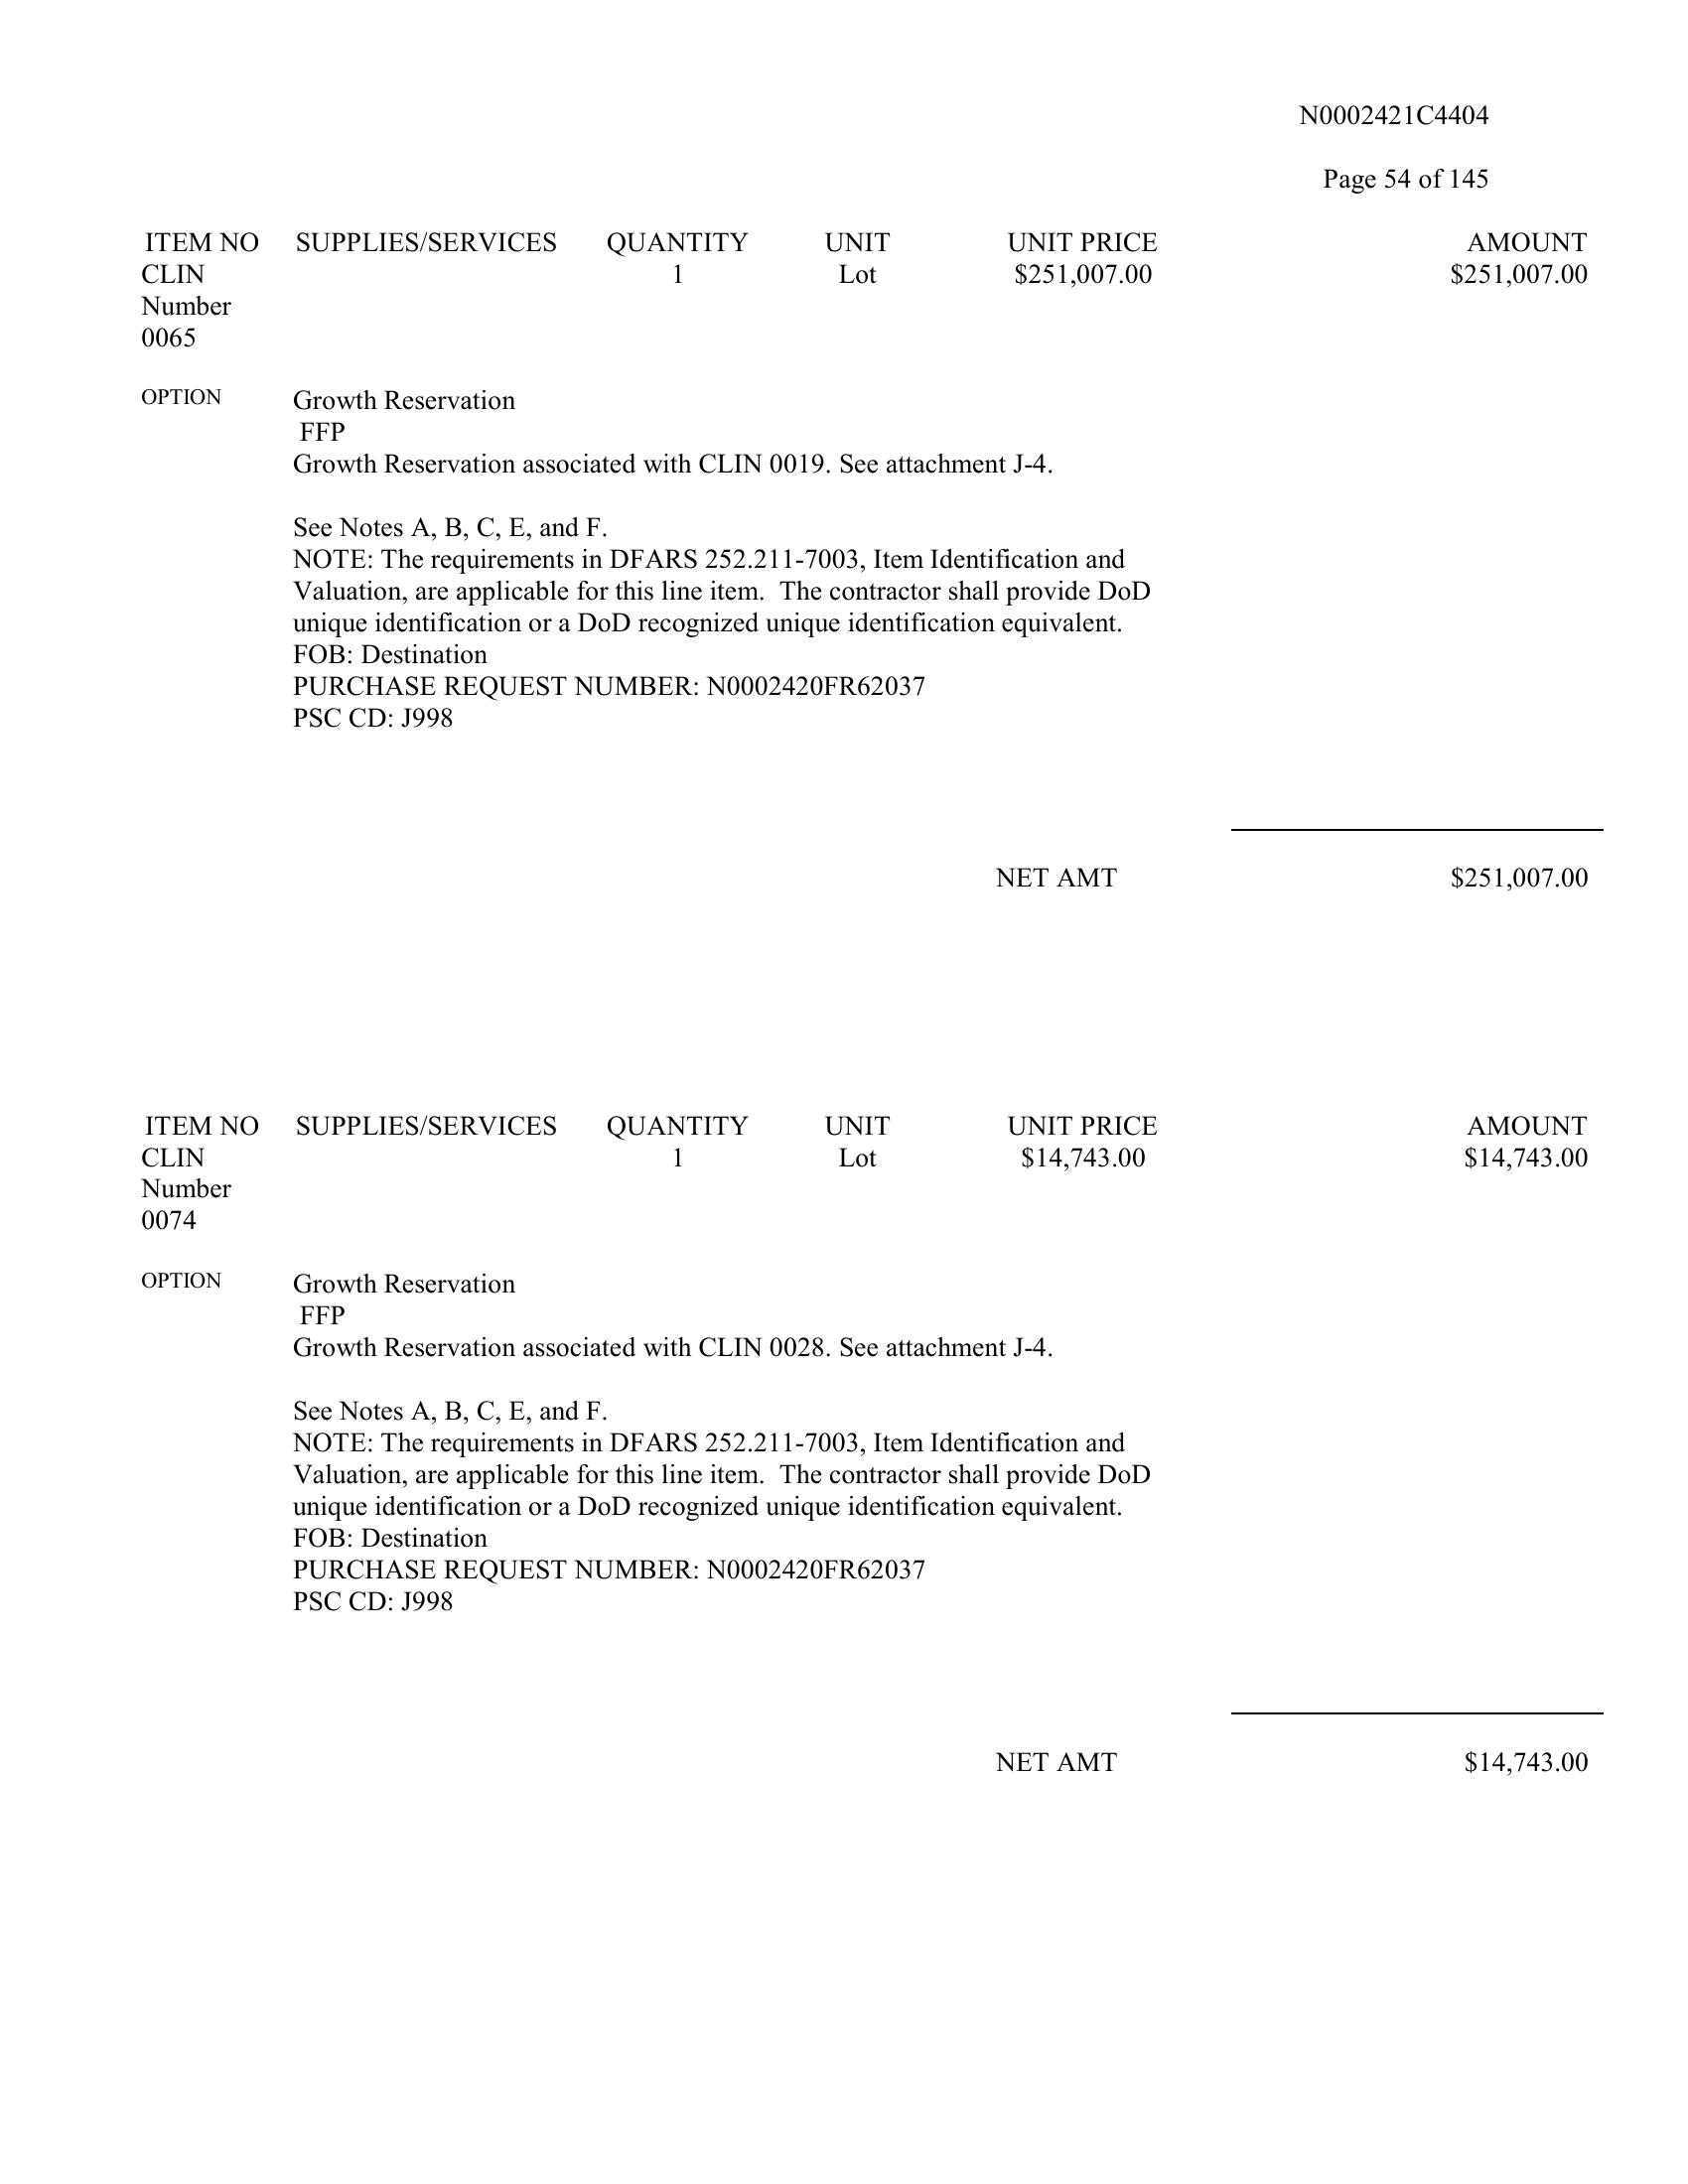table: (142, 1103, 1629, 1785), (129, 216, 1605, 893)
